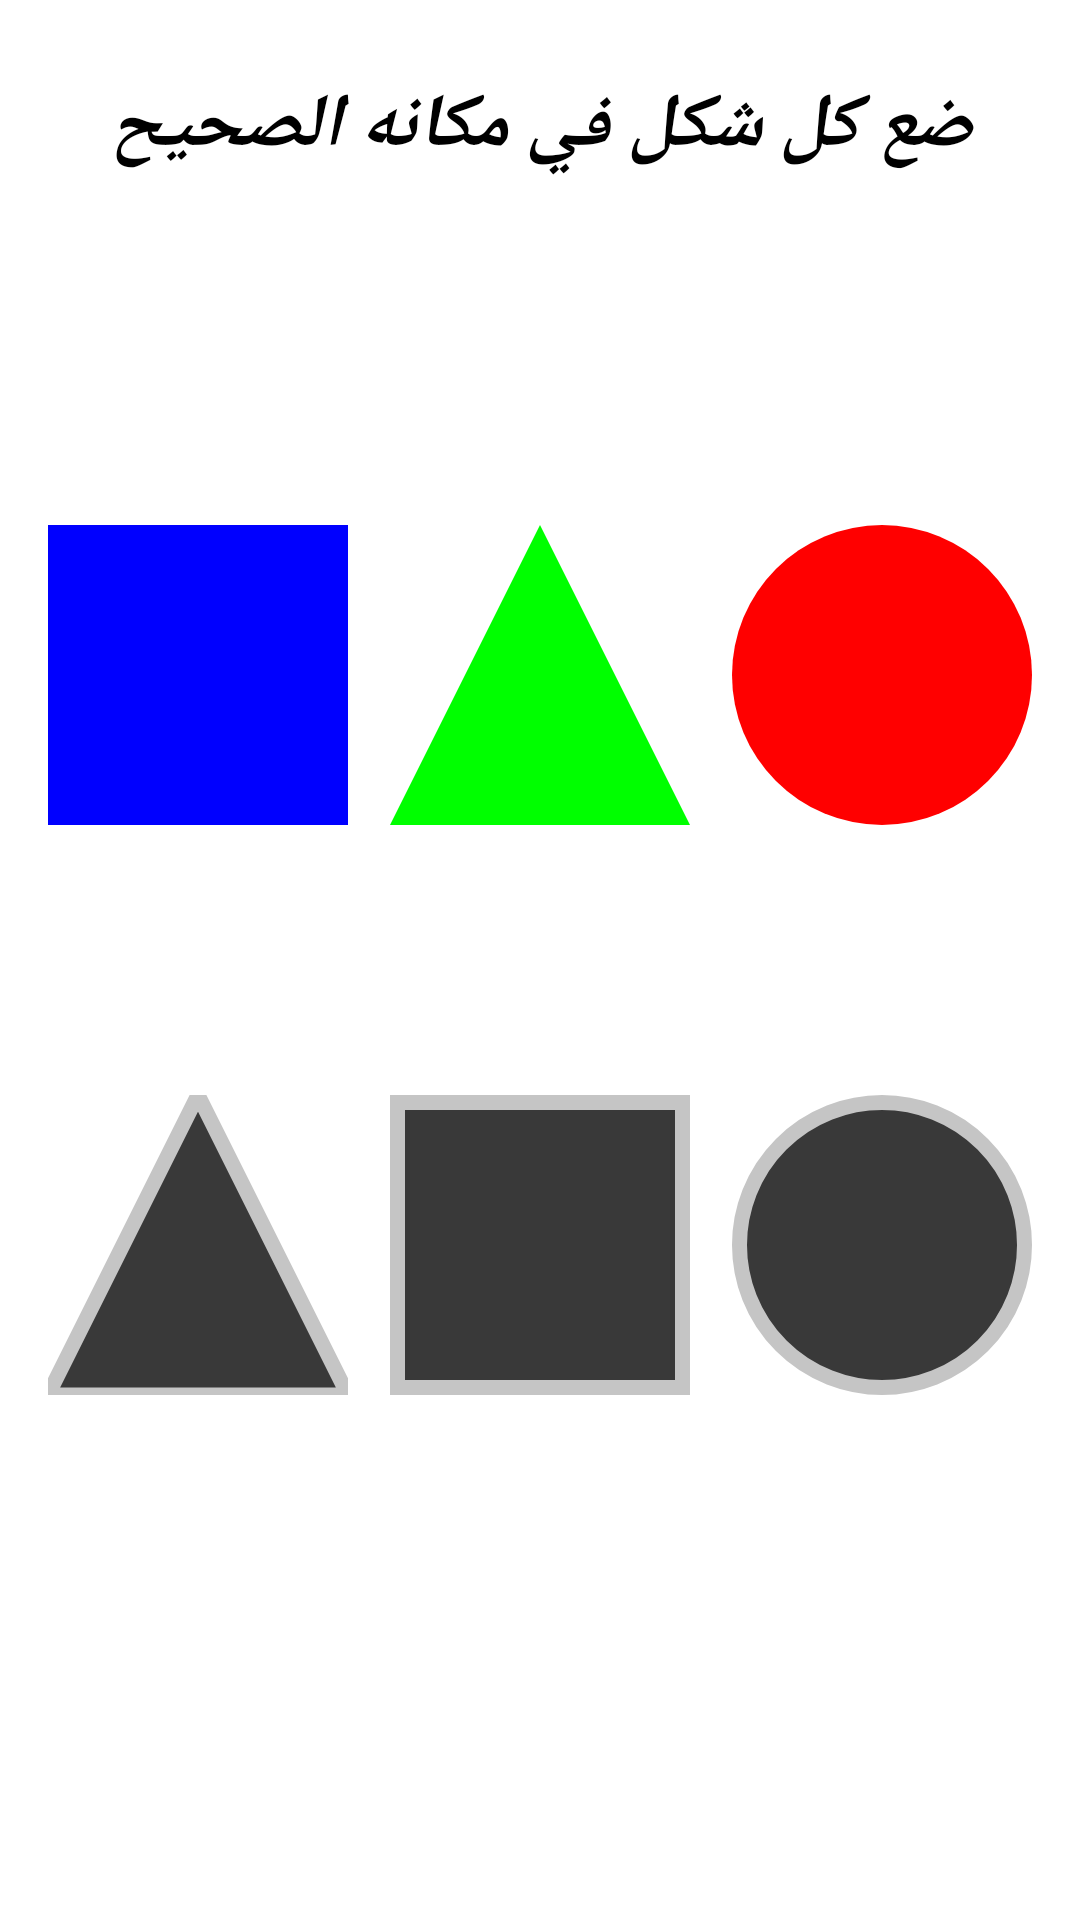

Named icons in this screenshot (1080 × 1920) and their centers, [x,y]:
circle shape: [882,675]
square target: [540,1245]
triangle shape: [540,675]
triangle target: [198,1245]
